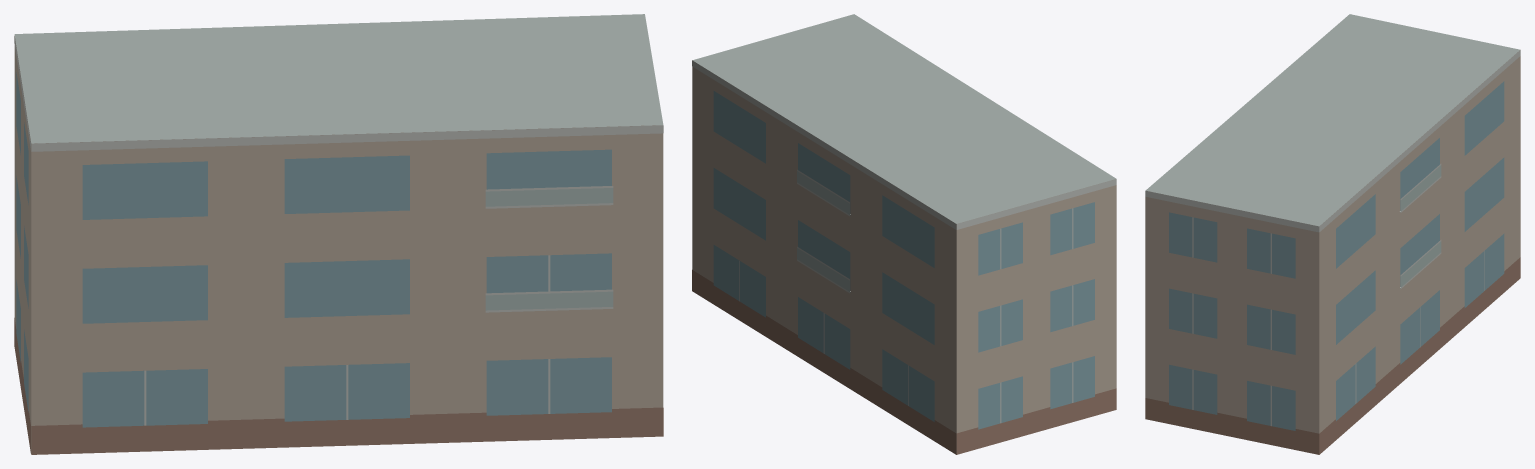
File: survey-upis-32798768.glb
3 renders of one model, left to right at view 1: azimuth 30°, elevation 25°; view 2: azimuth 150°, elevation 25°; view 3: azimuth 270°, elevation 25°, orthographic. The views are drawn at different scales.
Visible parts, largest first — view 1: survey-upis-32798768.tmp; view 2: survey-upis-32798768.tmp; view 3: survey-upis-32798768.tmp.
Part boxes in pixels (left/top/right/bottom): survey-upis-32798768.tmp: left=14, top=14, right=663, bottom=454; survey-upis-32798768.tmp: left=692, top=14, right=1116, bottom=454; survey-upis-32798768.tmp: left=1145, top=14, right=1520, bottom=454.
Size of the model in its own units: 18.25 by 9.15 by 13.63.
